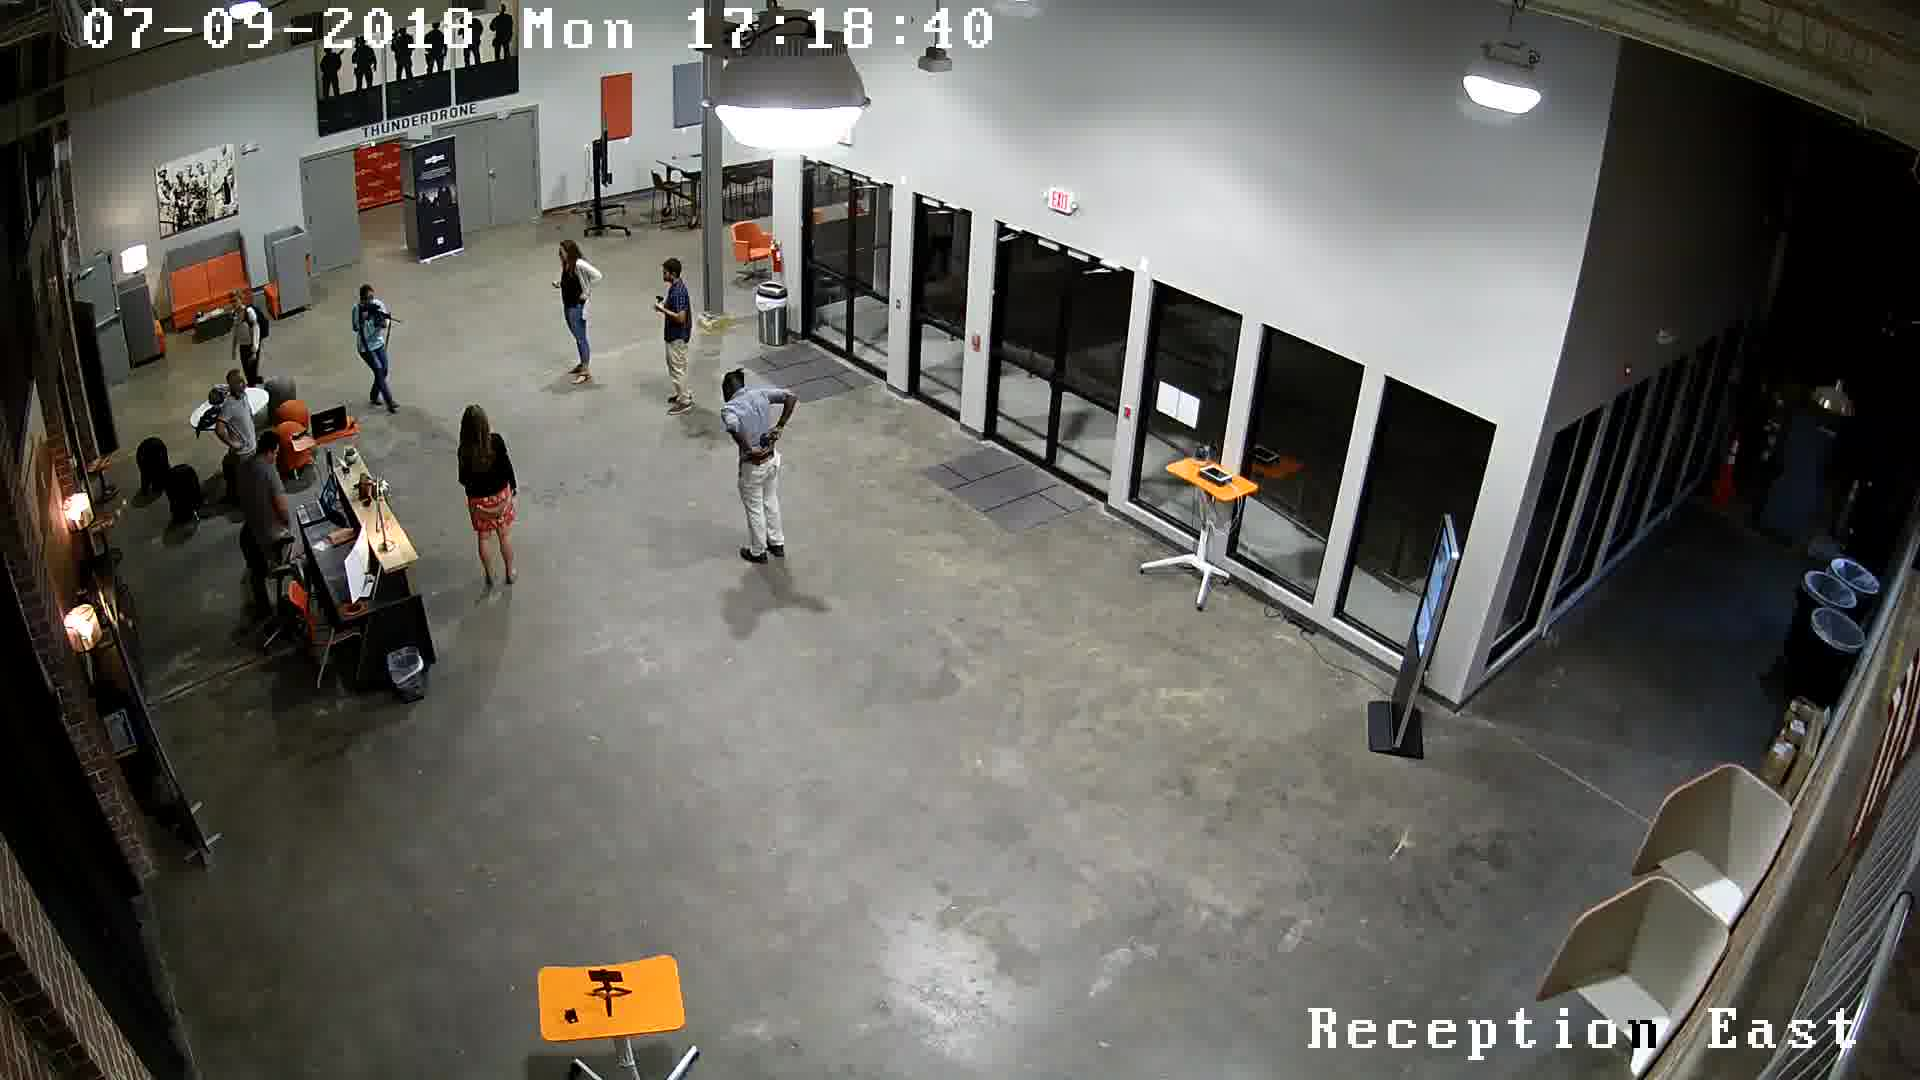pistol: (749, 415, 786, 472)
